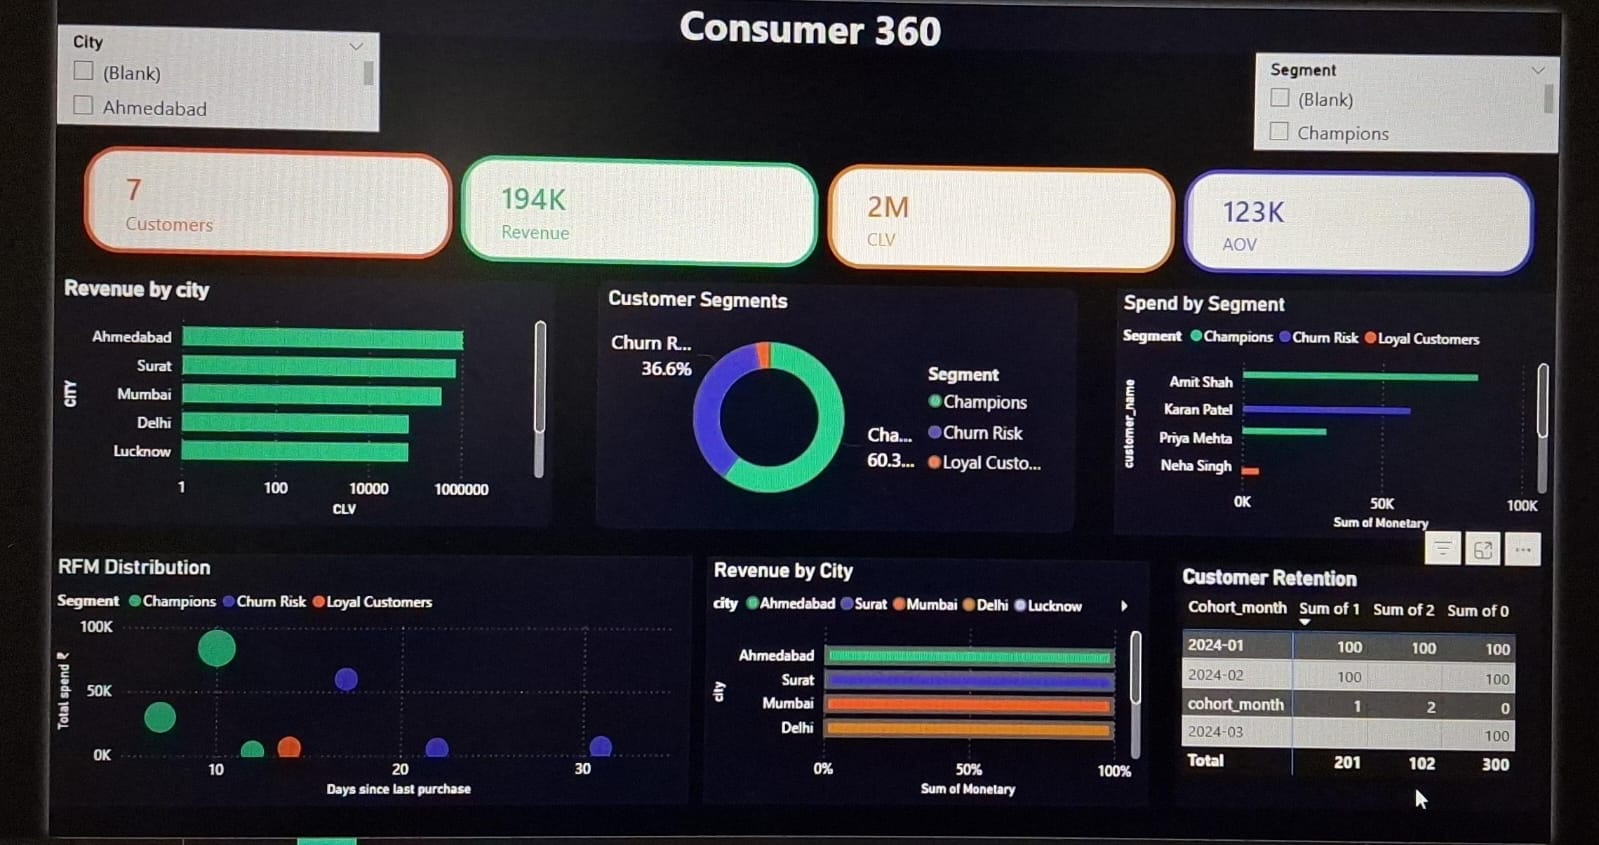

What the dashboard file says about the page in this screenshot:
{"tool":"powerbi","page":{"name":"Page 1","canvas":[1280,720],"ordinal":0},"visuals":[{"type":"cardVisual","fields":{"Data":["rfm_output.Total Revenue"]},"box":[308,41.7,303.1,89.6],"z":0},{"type":"cardVisual","fields":{"Data":["rfm_output.Total Customers"]},"box":[34.4,139.9,303.1,89.6],"z":1000},{"type":"cardVisual","fields":{"Data":["rfm_output.Total CLV"]},"box":[671.2,41.7,303.1,89.6],"z":2000},{"type":"cardVisual","fields":{"Data":["Sum(rfm_output.Avg Order Value)"]},"box":[966.9,139.9,303.1,89.6],"z":3000},{"type":"donutChart","title":"Customer Segments","fields":{"Y":["Sum(rfm_output.Monetary)"],"Category":["rfm_output.Segment"]},"box":[427,152.1,460.1,305.5],"z":4000},{"type":"hundredPercentStackedBarChart","title":"Revenue by City","fields":{"Category":["rfm_output.city"],"Y":["Sum(rfm_output.Monetary)"],"Series":["rfm_output.city"]},"box":[546,481,384.1,211],"z":5000},{"type":"clusteredBarChart","title":"Spend by Segment","fields":{"Category":["rfm_output.customer_name"],"Y":["Sum(rfm_output.Monetary)"],"Series":["rfm_output.Segment"]},"box":[899.4,244.2,380.4,213.5],"z":6000},{"type":"scatterChart","title":"RFM Distribution","fields":{"X":["Sum(rfm_output.Recency)"],"Y":["Sum(rfm_output.Monetary)"],"Size":["Sum(rfm_output.Frequency)"],"Series":["rfm_output.Segment"],"Category":["rfm_output.customer_name"]},"box":[0,480.7,532.5,211],"z":7000},{"type":"pivotTable","title":"Customer Retention","fields":{"Rows":["cohort_analysis.Cohort_month"],"Values":["Sum(cohort_analysis.1)","Sum(cohort_analysis.2)","Sum(cohort_analysis.0)"]},"box":[953.4,481,316.6,211],"z":8000},{"type":"textbox","title":"Consumer 360","box":[0,0,1260,38],"z":9000},{"type":"slicer","fields":{"Values":["rfm_output.Segment"]},"box":[1016,41.7,254,81],"z":10000},{"type":"slicer","fields":{"Values":["rfm_output.city"]},"box":[0,38,266.3,87.1],"z":11000},{"type":"clusteredBarChart","title":"Revenue by city","fields":{"Y":["rfm_output.Total CLV"],"Category":["rfm_output.city"]},"box":[0,244.2,414.7,213.5],"z":12000}]}

Visuals, with their boxes on the page's 1280x720 design canvas (x1, y1, x2, y2). These are canvas units, not pixel positions in the 1599x845 screenshot, which may show the page scaled, cropped or inside an application window:
cardVisual - rfm_output.Total Revenue: (308,42,611,131)
cardVisual - rfm_output.Total Customers: (34,140,338,230)
cardVisual - rfm_output.Total CLV: (671,42,974,131)
cardVisual - Sum(rfm_output.Avg Order Value): (967,140,1270,230)
"Customer Segments" donutChart: (427,152,887,458)
"Revenue by City" hundredPercentStackedBarChart: (546,481,930,692)
"Spend by Segment" clusteredBarChart: (899,244,1280,458)
"RFM Distribution" scatterChart: (0,481,532,692)
"Customer Retention" pivotTable: (953,481,1270,692)
"Consumer 360" textbox: (0,0,1260,38)
slicer - rfm_output.Segment: (1016,42,1270,123)
slicer - rfm_output.city: (0,38,266,125)
"Revenue by city" clusteredBarChart: (0,244,415,458)
